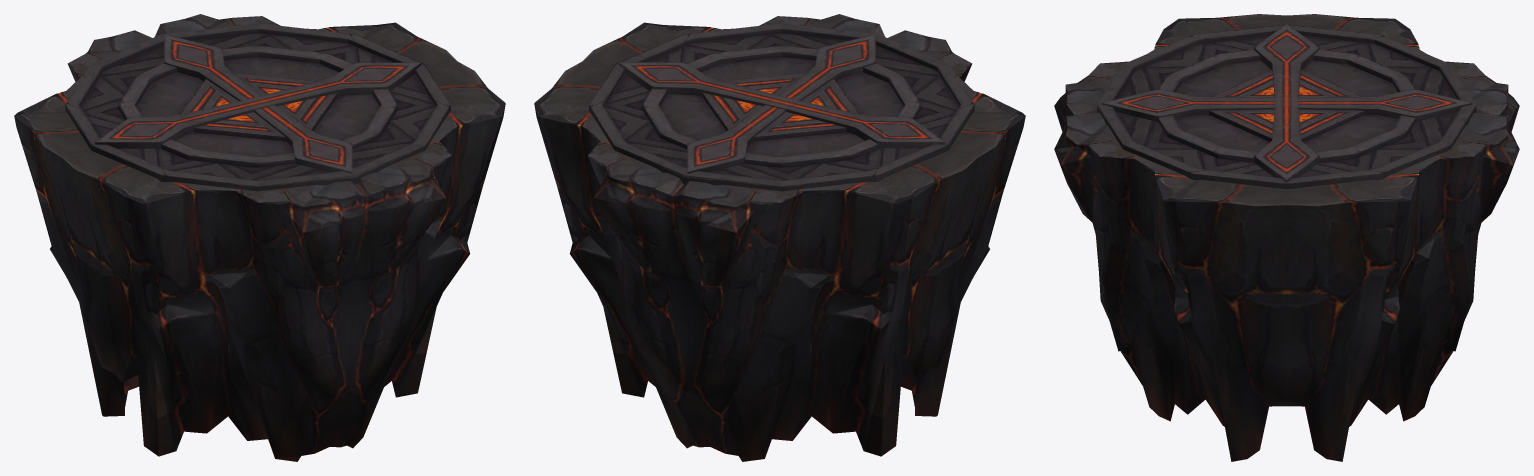
The model's file is temple_platform01.FBX.
3 renders of one model, left to right at view 1: azimuth 30°, elevation 25°; view 2: azimuth 150°, elevation 25°; view 3: azimuth 270°, elevation 25°, orthographic.
Visible parts, largest first — view 1: temple_platform01; view 2: temple_platform01; view 3: temple_platform01.
Boxes of the visible parts, bbox=[...] form: temple_platform01: bbox=[14, 14, 505, 461]; temple_platform01: bbox=[534, 14, 1025, 461]; temple_platform01: bbox=[1054, 14, 1519, 461].
Size of the model in its own units: 303 by 310 by 221.
